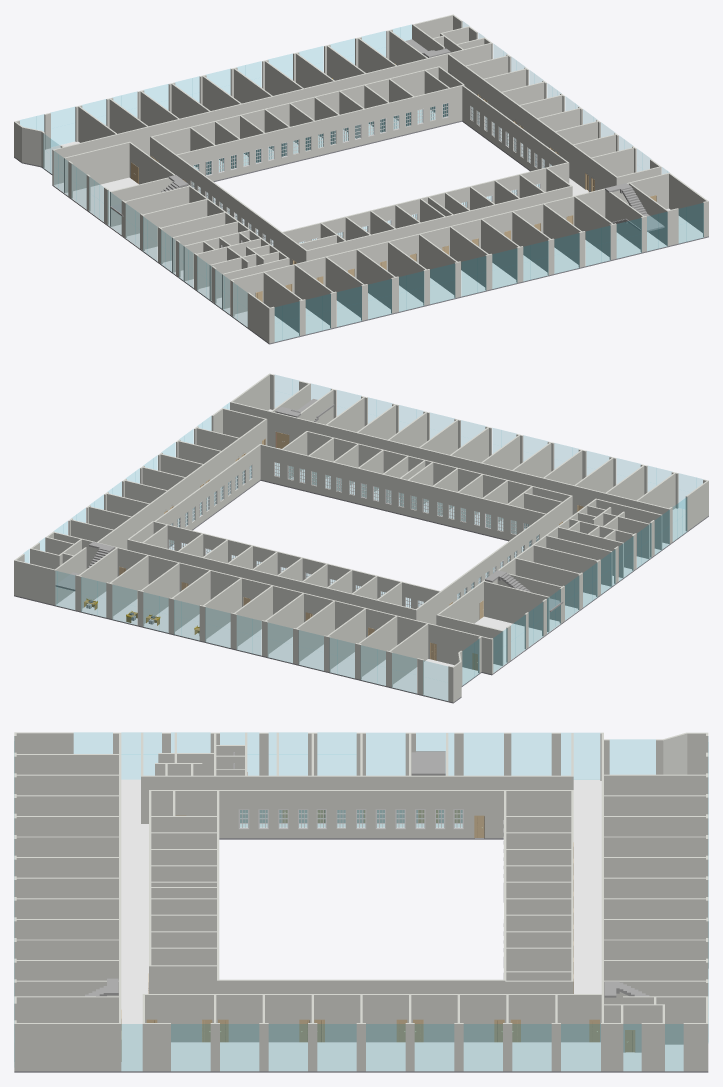
Rendered from 5L墙体.gltf.
3 renders of one model, top to bottom at view 1: azimuth 30°, elevation 25°; view 2: azimuth 150°, elevation 25°; view 3: azimuth 270°, elevation 25°, orthographic. The views are drawn at different scales.
Parts seen in each view (by area): view 1: 常规 140 - 20+120 [733315], 常规 - 200mm [727917], 常规 - 200mm [535309], 常规 - 200mm [531928], 常规 - 200mm [538774], 常规 - 200mm [541075], 常规 - 200mm [726721], 常规 - 200mm [621058], 常规 - 200mm [540299], 常规 - 200mm [727738], 常规 - 200mm [537383], 常规 - 200mm [620616] (+46 smaller); view 2: 常规 140 - 20+120 [733315], 常规 - 200mm [726721], 常规 - 200mm [531928], 常规 - 200mm [535309], 常规 - 200mm [727917], 常规 - 200mm [538774], 常规 - 200mm [541075], 常规 - 200mm [621058], 常规 - 200mm [540299], 常规 - 200mm [727738], 常规 - 200mm [537455], 常规 - 200mm [620616] (+47 smaller); view 3: 常规 140 - 20+120 [733315], 常规 - 200mm [538774], 常规 - 200mm [621058], 常规 - 200mm [620616], 常规 - 200mm [717522], 常规 - 200mm [727738], 常规 - 200mm [535894], 常规 - 200mm [536398], 常规 - 200mm [536844], 常规 - 200mm [533426], 常规 - 200mm [533856], 常规 - 200mm [536229] (+57 smaller).
Boxes of the visible parts, left/top/right/bottom form: 常规 140 - 20+120 [733315]: left=14, top=107, right=708, bottom=344; 常规 - 200mm [727917]: left=177, top=85, right=462, bottom=185; 常规 - 200mm [535309]: left=230, top=172, right=669, bottom=314; 常规 - 200mm [531928]: left=54, top=43, right=491, bottom=184; 常规 - 200mm [538774]: left=448, top=54, right=618, bottom=192; 常规 - 200mm [541075]: left=150, top=66, right=438, bottom=156; 常规 - 200mm [726721]: left=282, top=162, right=569, bottom=243; 常规 - 200mm [621058]: left=151, top=137, right=306, bottom=264; 常规 - 200mm [540299]: left=305, top=185, right=572, bottom=261; 常规 - 200mm [727738]: left=461, top=85, right=567, bottom=170; 常规 - 200mm [537383]: left=64, top=141, right=130, bottom=192; 常规 - 200mm [620616]: left=129, top=142, right=287, bottom=259; 常规 140 - 20+120 [733315]: left=14, top=409, right=708, bottom=703; 常规 - 200mm [726721]: left=259, top=444, right=545, bottom=544; 常规 - 200mm [531928]: left=54, top=532, right=490, bottom=673; 常规 - 200mm [535309]: left=230, top=401, right=670, bottom=543; 常规 - 200mm [727917]: left=155, top=521, right=440, bottom=609; 常规 - 200mm [538774]: left=97, top=418, right=267, bottom=549; 常规 - 200mm [541075]: left=128, top=539, right=417, bottom=620; 常规 - 200mm [621058]: left=416, top=496, right=571, bottom=624; 常规 - 200mm [540299]: left=306, top=431, right=572, bottom=515; 常规 - 200mm [727738]: left=153, top=444, right=260, bottom=545; 常规 - 200mm [537455]: left=484, top=581, right=549, bottom=632; 常规 - 200mm [620616]: left=437, top=499, right=596, bottom=623; 常规 140 - 20+120 [733315]: left=14, top=779, right=708, bottom=1072; 常规 - 200mm [538774]: left=142, top=994, right=601, bottom=1042; 常规 - 200mm [621058]: left=151, top=790, right=571, bottom=838; 常规 - 200mm [620616]: left=143, top=775, right=571, bottom=823; 常规 - 200mm [717522]: left=14, top=1023, right=118, bottom=1071; 常规 - 200mm [727738]: left=219, top=979, right=506, bottom=993; 常规 - 200mm [535894]: left=14, top=996, right=118, bottom=1022; 常规 - 200mm [536398]: left=16, top=877, right=118, bottom=898; 常规 - 200mm [536844]: left=16, top=774, right=118, bottom=795; 常规 - 200mm [533426]: left=604, top=877, right=705, bottom=898; 常规 - 200mm [533856]: left=604, top=774, right=705, bottom=795; 常规 - 200mm [536229]: left=16, top=919, right=118, bottom=939.
Size of the model in its own units: 59.51 by 4.85 by 59.89.
23 materials, 1 textured.
